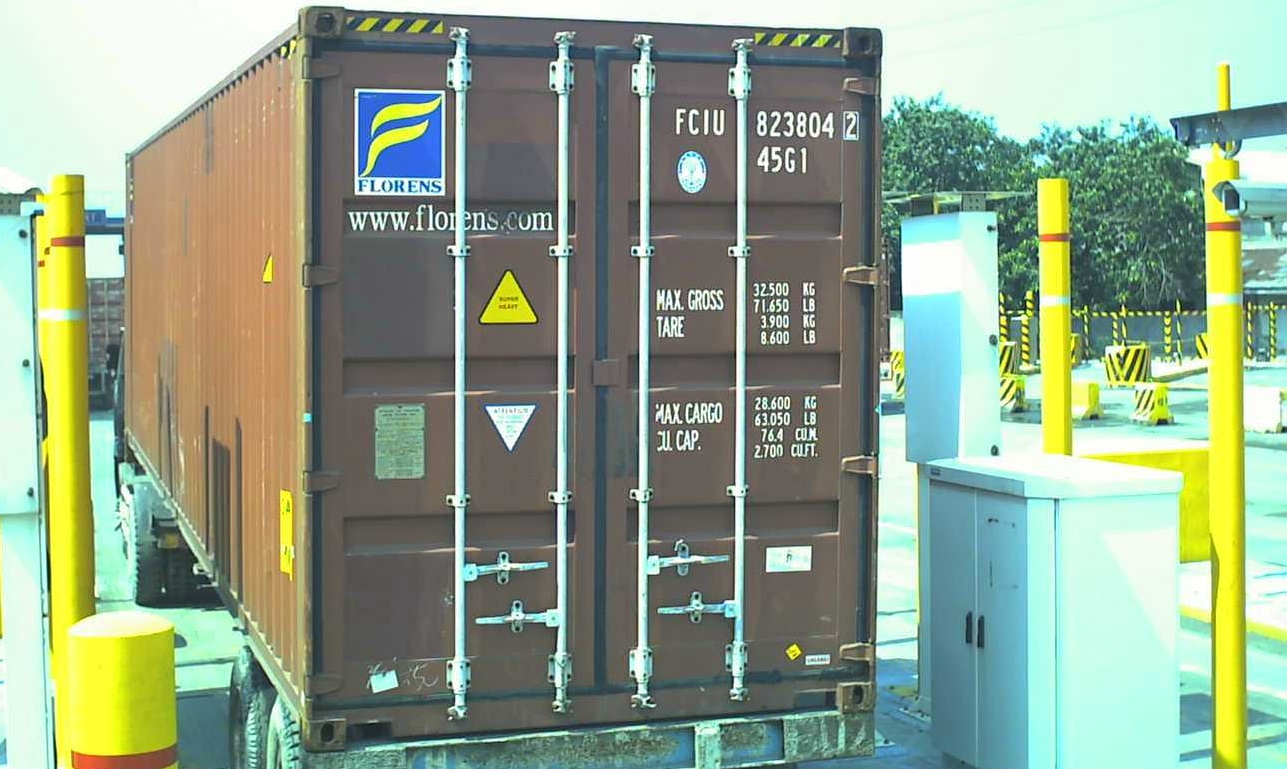container_door: (309, 4, 875, 749)
